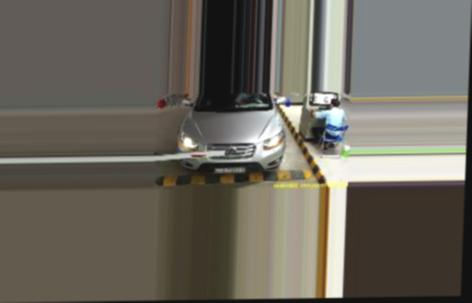License_Plate: (213, 164, 249, 177)
